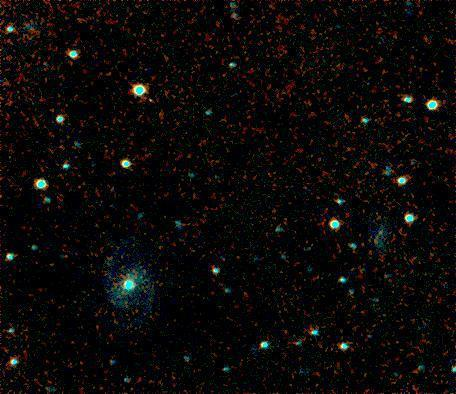star: (136, 89, 166, 119)
